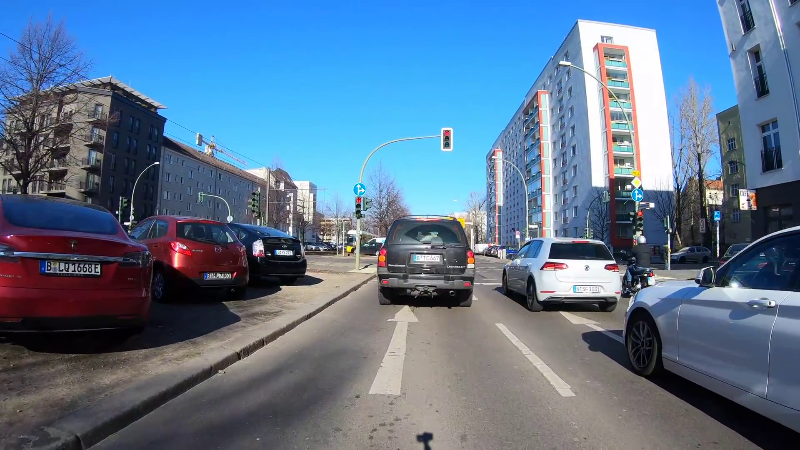Plate: (38, 258, 104, 279), (409, 252, 442, 263), (573, 284, 603, 295), (203, 270, 233, 280), (274, 249, 295, 254)
